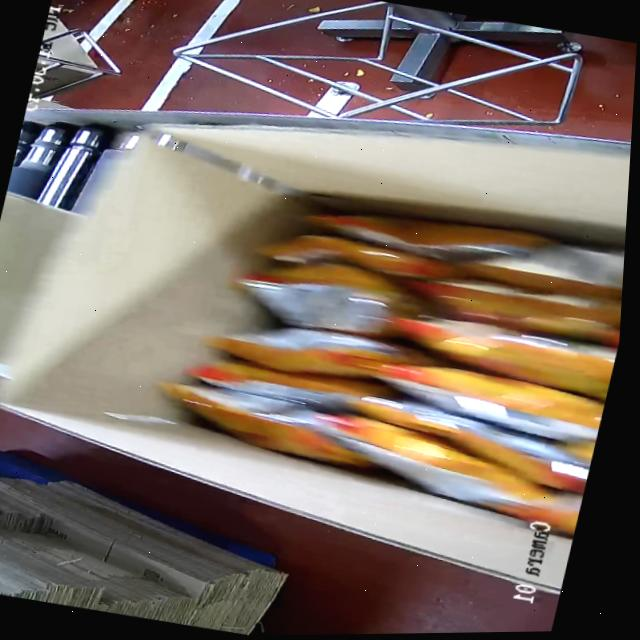FRENCH_CHEESE: (133, 174, 629, 550)
